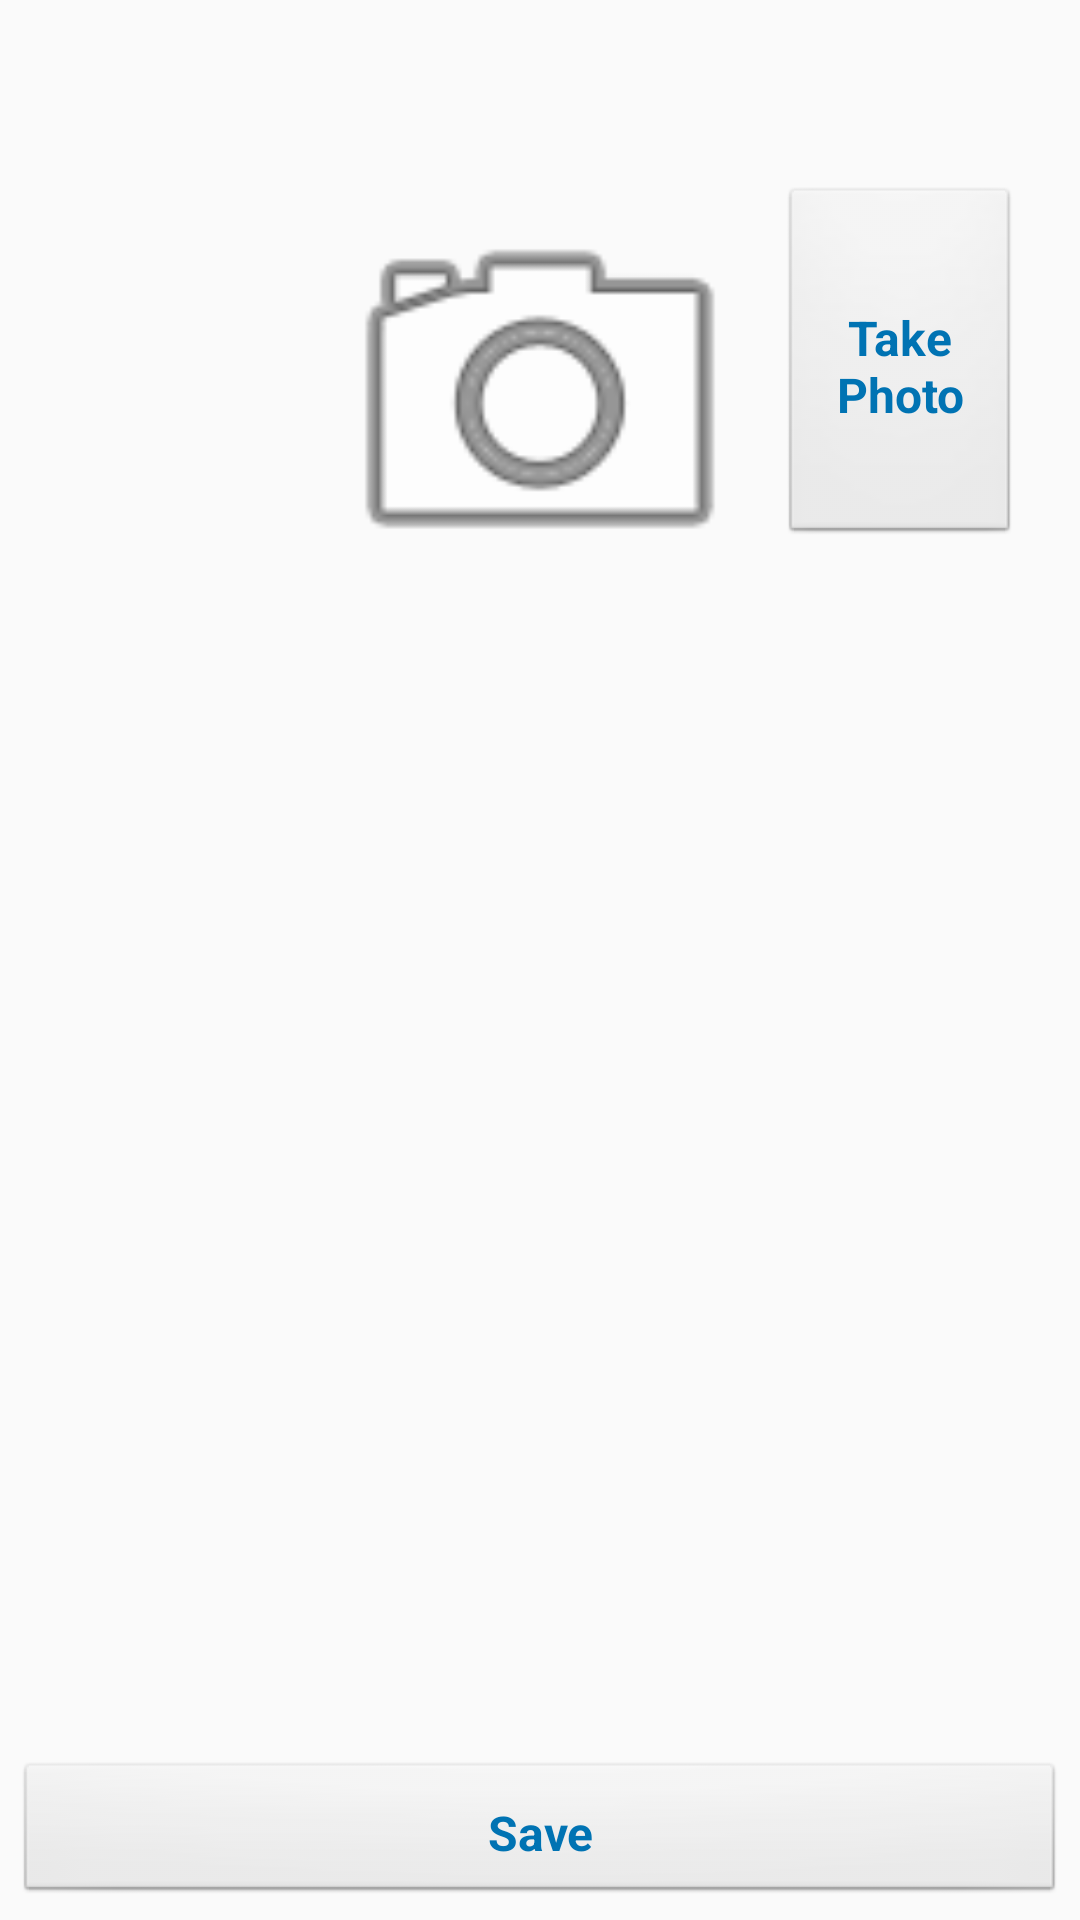

Where icons sit on this 1080*1920 app screen, as box=[x1, y1, x2, y2]:
camera: box=[366, 250, 714, 528]
